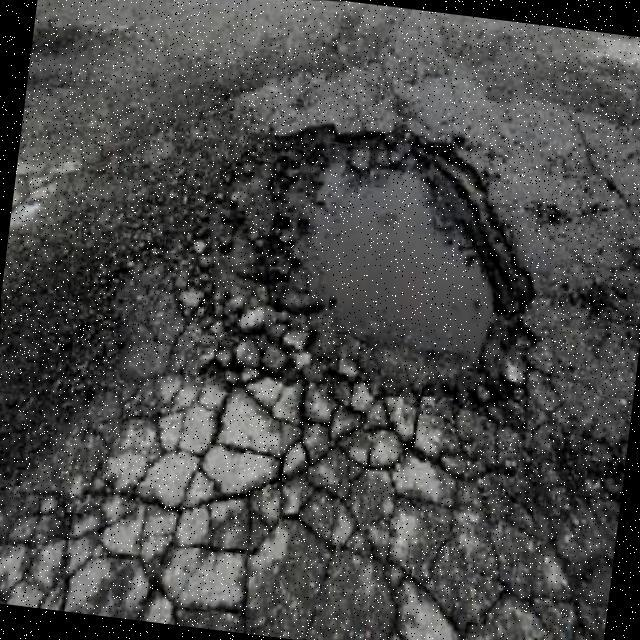Pothole: (214, 126, 535, 393)
